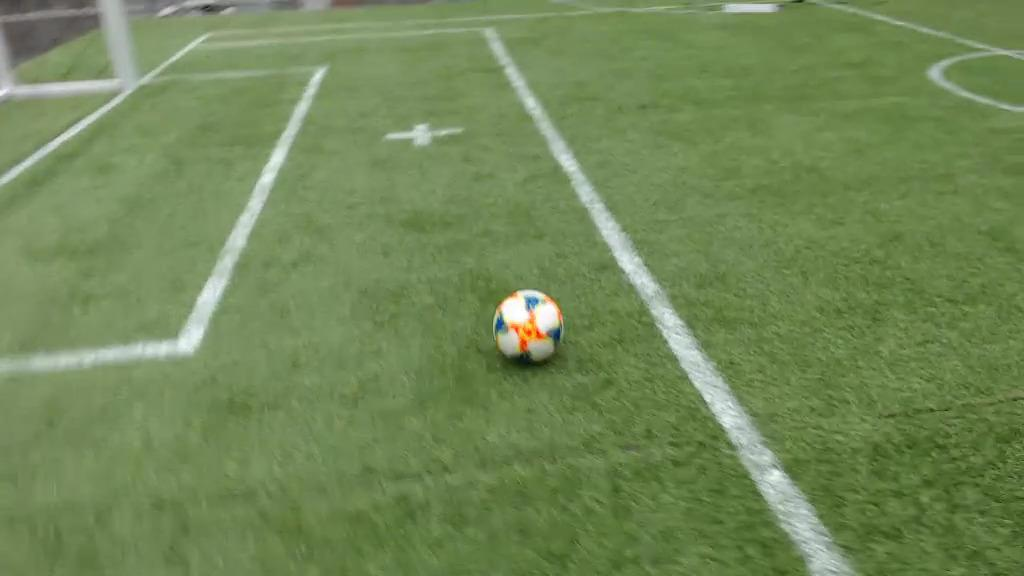ball: (493, 289, 563, 361)
